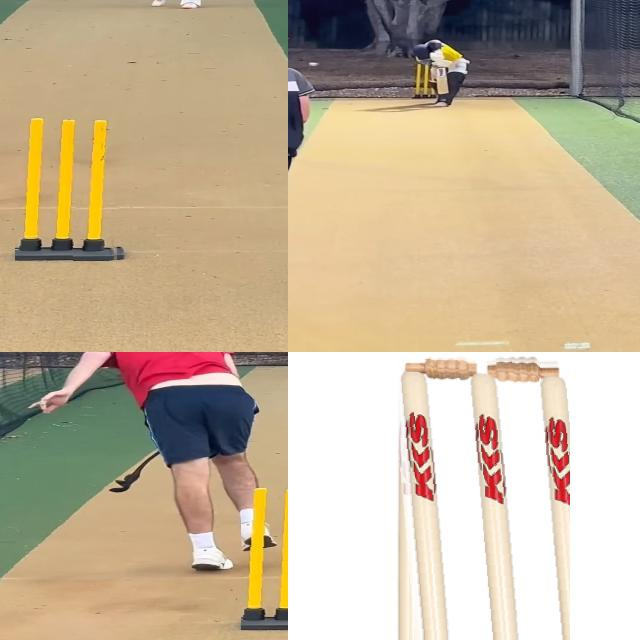Cricket ball: (310, 62, 320, 67)
Stumps: (390, 353, 570, 640), (15, 117, 127, 261), (241, 485, 288, 630)
